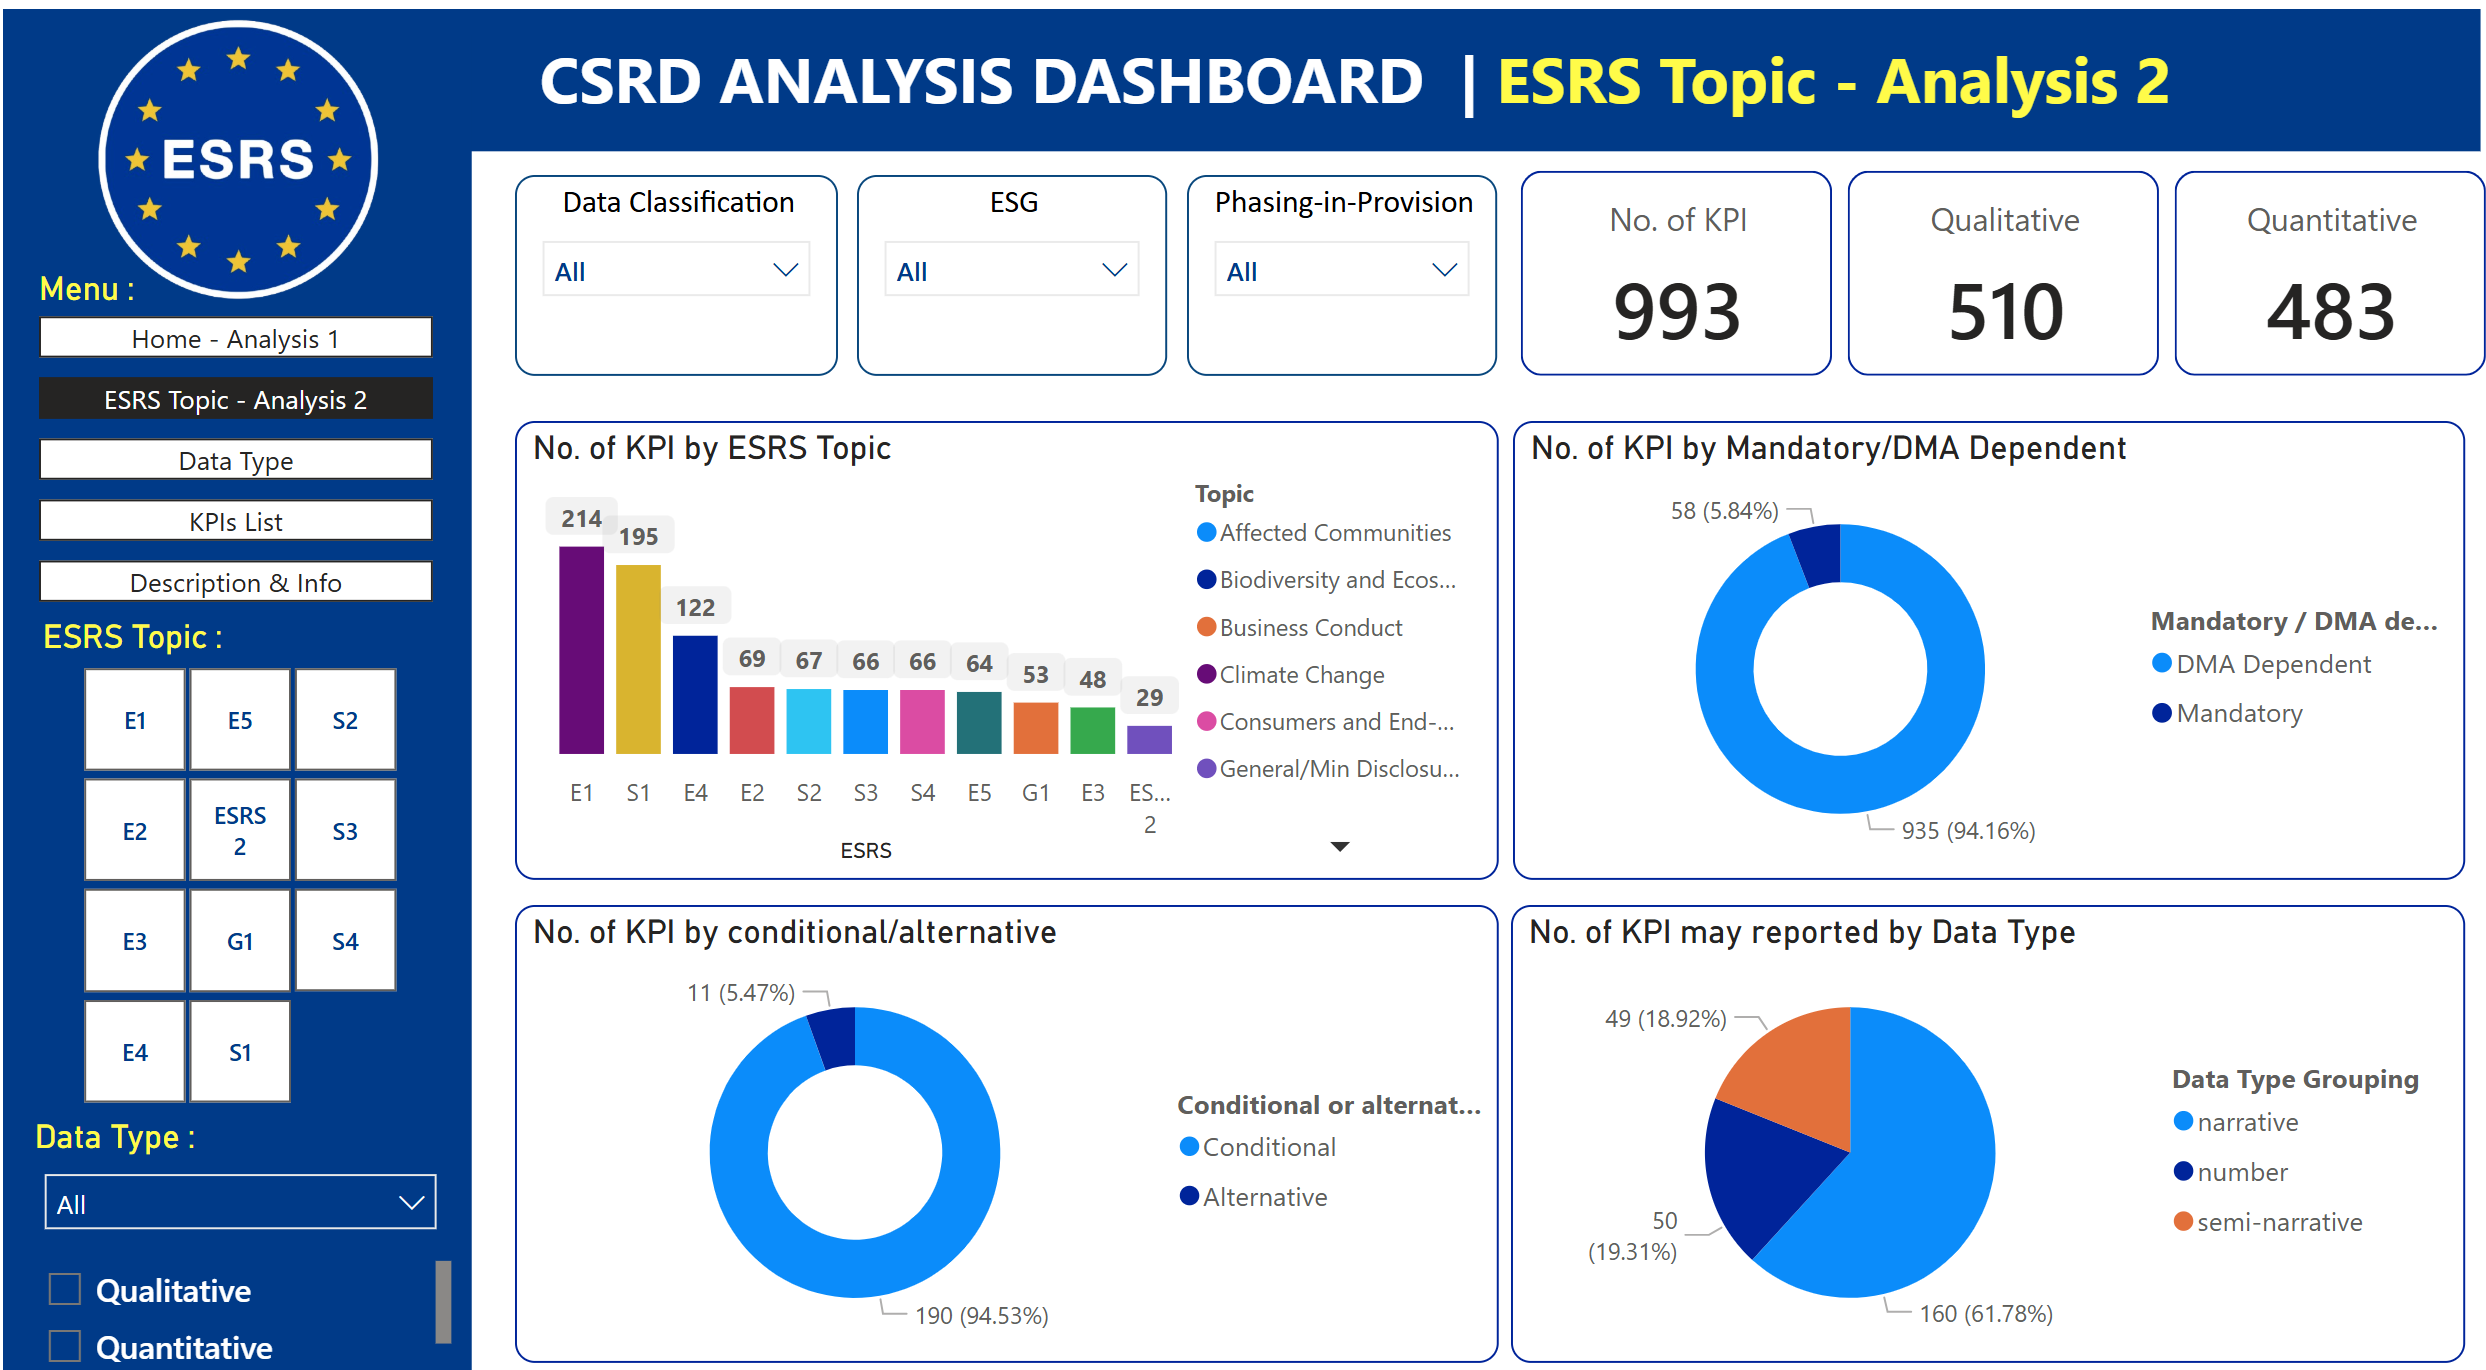

This screenshot's page, from the dashboard's own definition file:
{"tool":"powerbi","page":{"name":"ESRS Topic - Analysis 2","canvas":[1280,720],"ordinal":1},"visuals":[{"type":"shape","box":[12.3,19.7,1258,72.3],"z":0},{"type":"textbox","box":[272.3,27.7,853.8,55.4],"z":1000},{"type":"cardVisual","fields":{"Data":["CountNonNull(All topic ESRS (2).Name)","All topic ESRS (2).Qualitative","All topic ESRS (2).Quantitative"]},"box":[777.6,96.9,500.9,114.1],"z":2000},{"type":"slicer","title":"Data Classification","fields":{"Values":["All topic ESRS (2).Data Classification"]},"box":[271.8,103.5,164.2,101.8],"z":3000},{"type":"slicer","title":"ESG","fields":{"Values":["All topic ESRS (2).ESG"]},"box":[445.9,103.5,157.7,101.8],"z":4000},{"type":"slicer","title":"Phasing-in-Provision","fields":{"Values":["All topic ESRS (2).Appendix C - ESRS 1DPs subject to phasing-in provisions applicable to undertaking with less than 750 "]},"box":[613.4,103.5,157.7,101.8],"z":5000},{"type":"columnChart","title":"No. of KPI by ESRS Topic","fields":{"Y":["CountNonNull(All topic ESRS (2).Name)"],"Category":["ESRS Topic.ESRS"],"Series":["ESRS Topic.Topic"]},"box":[271.8,228.3,499.3,233.2],"z":6000},{"type":"shape","box":[12.3,32.8,238.1,683.2],"z":7000},{"type":"slicer","title":"ESRS Topic :","fields":{"Values":["All topic ESRS (2).ESRS"]},"box":[27.5,328.3,208.3,253.3],"z":8000},{"type":"slicer","title":"Data Type :","fields":{"Values":["All topic ESRS (2).Data Type"]},"box":[23.3,581.7,219.2,61.7],"z":9000},{"type":"slicer","fields":{"Values":["All topic ESRS (2).Qualitative / Quantitative"]},"box":[22.5,650,222.5,64.2],"z":10000},{"type":"image","box":[50,13.3,163.3,166.7],"z":11000},{"type":"pageNavigator","title":"Menu :","box":[30.8,151.7,200.8,171.7],"z":12000},{"type":"pieChart","title":"No. of KPI may reported by Data Type","fields":{"Category":["All topic ESRS.Data Type Grouping","All topic ESRS.May [V]"],"Y":["CountNonNull(All topic ESRS.Name)"]},"box":[777.6,473.8,484.5,232.4],"z":13000},{"type":"donutChart","title":"No. of KPI by conditional/alternative","fields":{"Category":["All topic ESRS.Conditional or alternative DP"],"Y":["CountNonNull(All topic ESRS.Name)"]},"box":[271.8,473.8,499.3,232.4],"z":14000},{"type":"donutChart","title":"No. of KPI by Mandatory/DMA Dependent","fields":{"Y":["CountNonNull(All topic ESRS.Name)"],"Category":["All topic ESRS.Mandatory / DMA dependent"]},"box":[778.7,228.6,483.7,233],"z":14001}]}

Visuals, with their boxes in screenshot pixels (x1, y1, x2, y2), scaled from the page's 1280x720 canvas onto the 2486x1370 screenshot:
shape: bbox=(24, 37, 2467, 175)
textbox: bbox=(529, 53, 2187, 158)
cardVisual - CountNonNull(All topic ESRS (2).Name) x All topic ESRS (2).Qualitative: bbox=(1510, 184, 2483, 401)
"Data Classification" slicer: bbox=(528, 197, 847, 391)
"ESG" slicer: bbox=(866, 197, 1172, 391)
"Phasing-in-Provision" slicer: bbox=(1191, 197, 1498, 391)
"No. of KPI by ESRS Topic" columnChart: bbox=(528, 434, 1498, 878)
shape: bbox=(24, 62, 486, 1362)
"ESRS Topic :" slicer: bbox=(53, 625, 458, 1107)
"Data Type :" slicer: bbox=(45, 1107, 471, 1224)
slicer - All topic ESRS (2).Qualitative / Quantitative: bbox=(44, 1237, 476, 1359)
image: bbox=(97, 25, 414, 342)
"Menu :" pageNavigator: bbox=(60, 289, 450, 615)
"No. of KPI may reported by Data Type" pieChart: bbox=(1510, 902, 2451, 1344)
"No. of KPI by conditional/alternative" donutChart: bbox=(528, 902, 1498, 1344)
"No. of KPI by Mandatory/DMA Dependent" donutChart: bbox=(1512, 435, 2452, 878)
